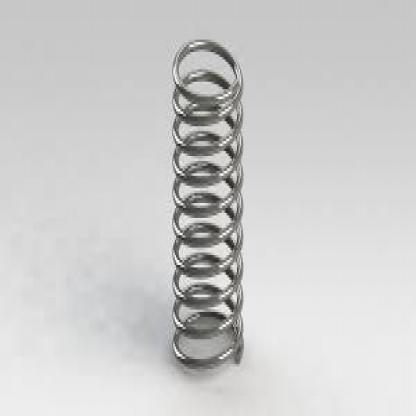FOD: (166, 34, 247, 372)
